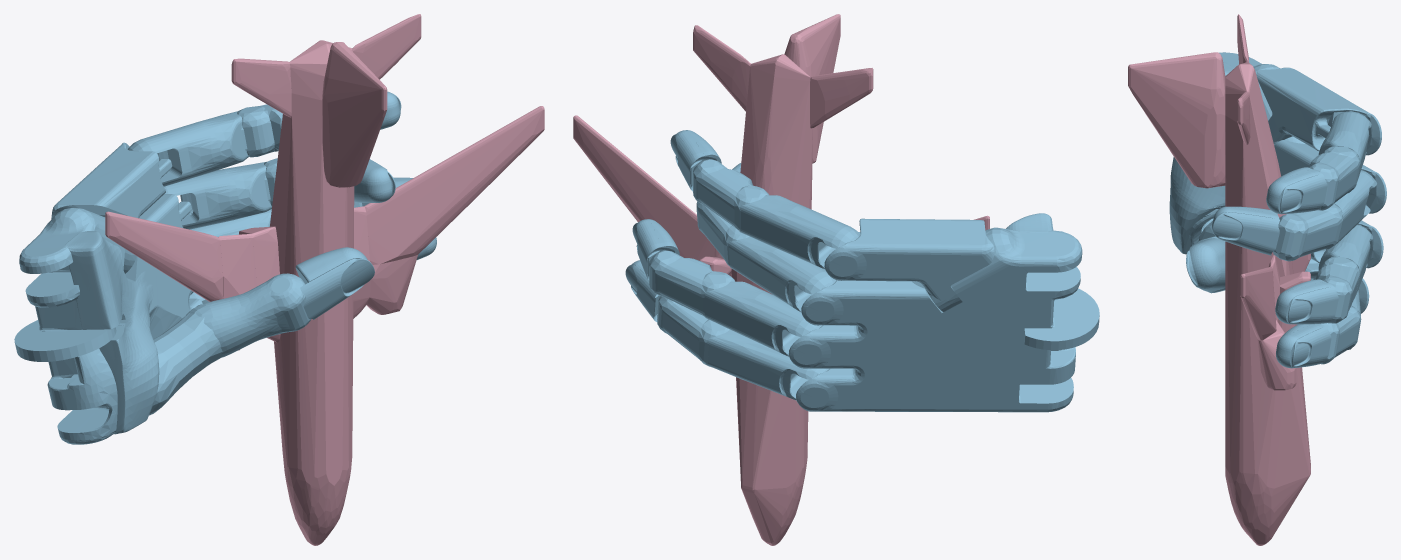
The picture shows the model from 3 angles, left to right: view 1: azimuth 30°, elevation 25°; view 2: azimuth 150°, elevation 25°; view 3: azimuth 270°, elevation 25°; orthographic projection. The views are drawn at different scales.
Visible parts, largest first — view 1: world, hand_isaac_q; view 2: hand_isaac_q, world; view 3: world, hand_isaac_q.
Boxes of the visible parts, <box> form: world: <box>105,14,544,545</box>; hand_isaac_q: <box>14,91,436,444</box>; hand_isaac_q: <box>625,130,1099,412</box>; world: <box>573,14,989,545</box>; world: <box>1128,14,1310,545</box>; hand_isaac_q: <box>1169,52,1386,368</box>.
Size of the model in its own units: 0.237 by 0.2206 by 0.1051.
